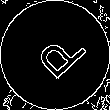P_SW: (24, 24, 86, 86)
